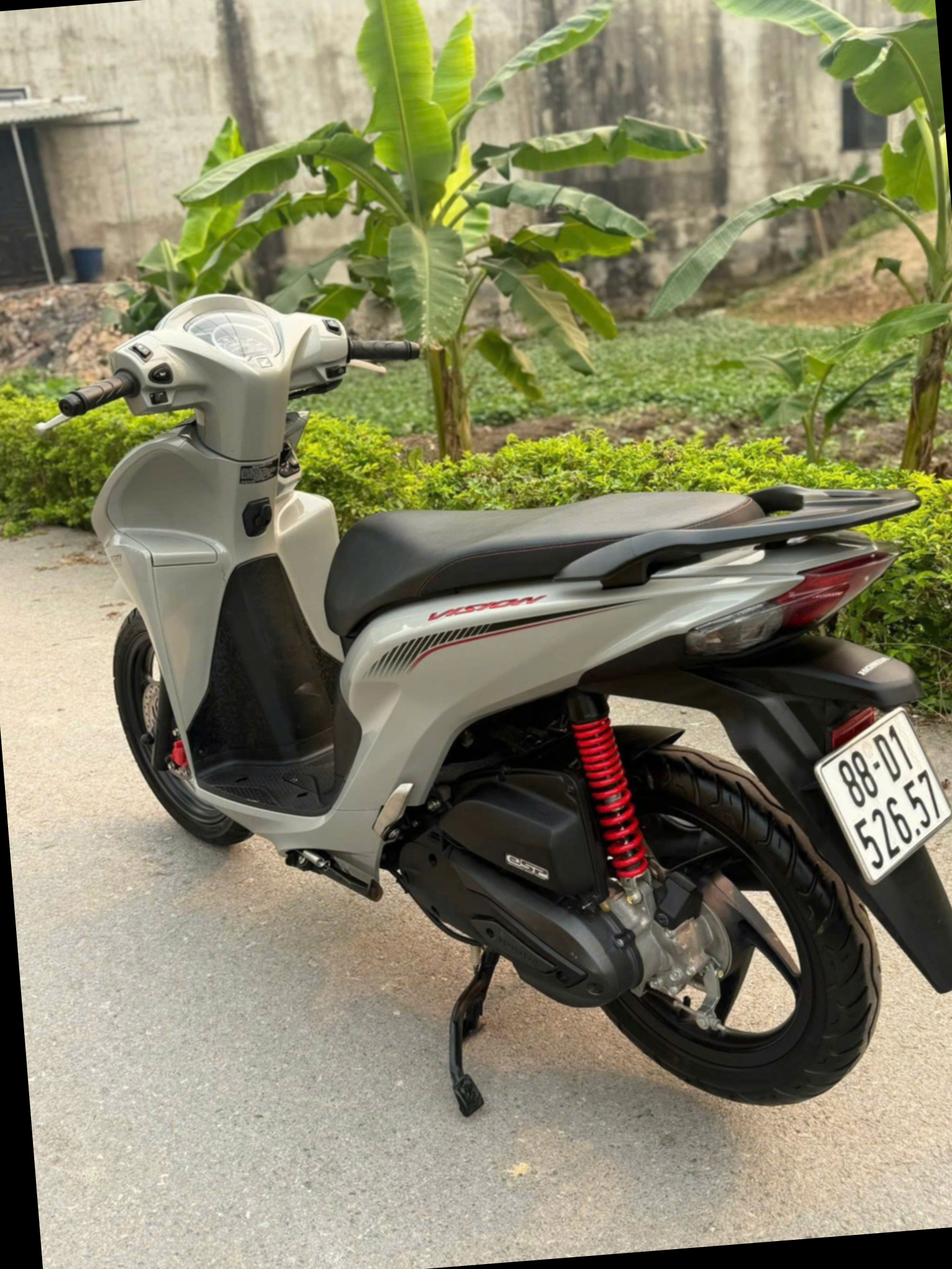Bien-so: (798, 765, 945, 947)
